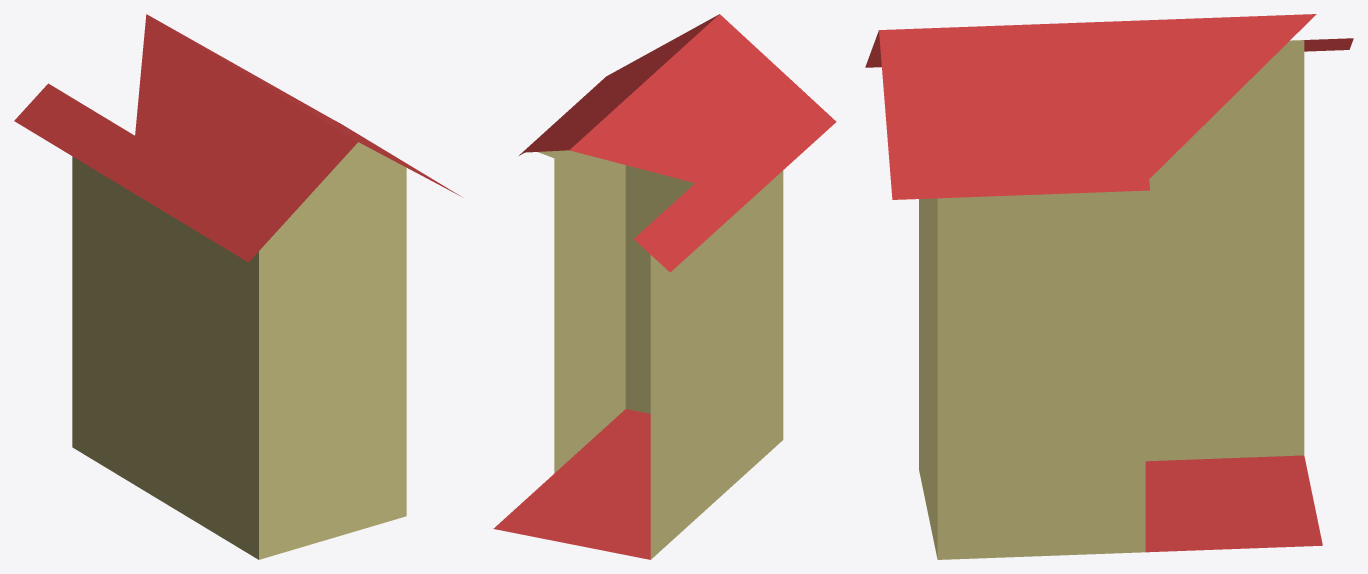
3 views of the same model, side by side, from view 1: azimuth 30°, elevation 25°; view 2: azimuth 150°, elevation 25°; view 3: azimuth 270°, elevation 25° (orthographic). The views are drawn at different scales.
Bounding box in the file's own units: 7.14 × 9.83 × 10.81.
